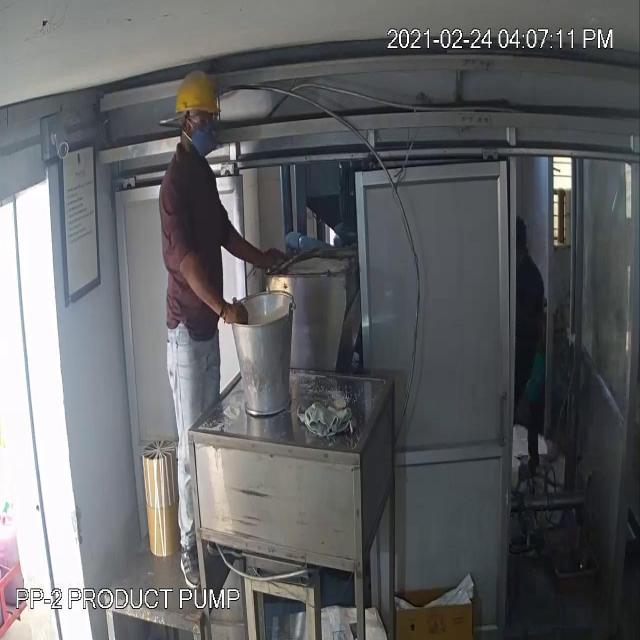helmet: (170, 62, 222, 132)
